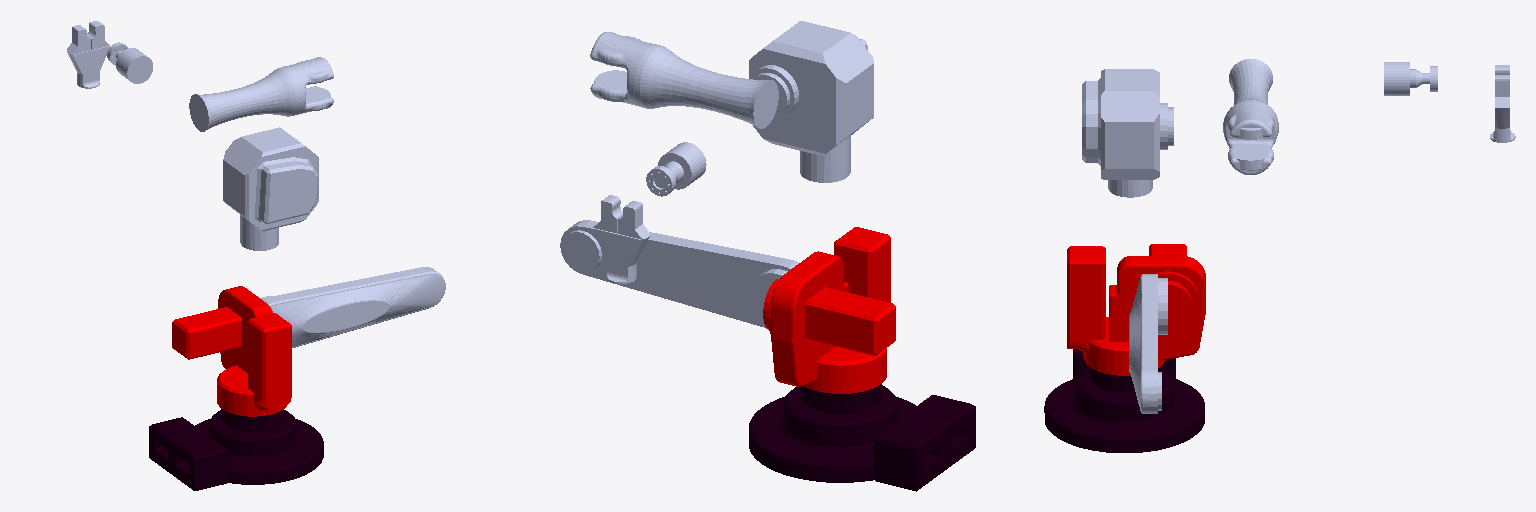
robot.urdf — robot_alex_urdf:
<?xml version="1.0" encoding="utf-8"?>
<!-- This URDF was automatically created by SolidWorks to URDF Exporter! Originally created by [author] ([email redacted]) 
     Commit Version: 1.6.0-4-g7f85cfe  Build Version: 1.6.7995.38578
     For more information, please see http://wiki.ros.org/sw_urdf_exporter -->
<robot
  name="robot_alex_urdf">
  <link
    name="base_link_alex">
    <inertial>
      <origin
        xyz="-0.0593086948871401 -2.87595368940353E-12 0.0776653157730273"
        rpy="0 0 0" />
      <mass
        value="33.891578448587" />
      <inertia
        ixx="0.562042604088221"
        ixy="-9.14376513234781E-12"
        ixz="0.00403961419511076"
        iyy="0.970694427805804"
        iyz="-7.30601703212629E-12"
        izz="1.29713482615658" />
    </inertial>
    <visual>
      <origin
        xyz="0 0 0"
        rpy="0 0 0" />
      <geometry>
        <mesh
          filename="package://robot_alex_urdf/meshes/base_link_alex.STL" />
      </geometry>
      <material
        name="">
        <color
          rgba="0.152941176470588 0 0.117647058823529 1" />
      </material>
    </visual>
    <collision>
      <origin
        xyz="0 0 0"
        rpy="0 0 0" />
      <geometry>
        <mesh
          filename="package://robot_alex_urdf/meshes/base_link_alex.STL" />
      </geometry>
    </collision>
  </link>
  <link
    name="arm_link_1_alex">
    <inertial>
      <origin
        xyz="0.0416589398280025 -3.68988089329482E-05 0.19712083516126"
        rpy="0 0 0" />
      <mass
        value="26.7048266497369" />
      <inertia
        ixx="0.495499615132855"
        ixy="-0.0102760504758245"
        ixz="-0.0600935399650256"
        iyy="0.766768677077223"
        iyz="-0.0115358881770517"
        izz="0.604967931690783" />
    </inertial>
    <visual>
      <origin
        xyz="0 0 0"
        rpy="0 0 0" />
      <geometry>
        <mesh
          filename="package://robot_alex_urdf/meshes/arm_link_1_alex.STL" />
      </geometry>
      <material
        name="">
        <color
          rgba="1 0 0 1" />
      </material>
    </visual>
    <collision>
      <origin
        xyz="0 0 0"
        rpy="0 0 0" />
      <geometry>
        <mesh
          filename="package://robot_alex_urdf/meshes/arm_link_1_alex.STL" />
      </geometry>
    </collision>
  </link>
  <joint
    name="arm_joint_1_alex"
    type="continuous">
    <origin
      xyz="0 0 0.234"
      rpy="0 0 1.5707963267949" />
    <parent
      link="base_link_alex" />
    <child
      link="arm_link_1_alex" />
    <axis
      xyz="0 0 1" />
    <limit
      lower="-3.1416"
      upper="3.1416"
      effort="0"
      velocity="0" />
  </joint>
  <link
    name="arm_link_2_alex">
    <inertial>
      <origin
        xyz="-0.290203503422468 0.000258724363916885 0.0707589768311214"
        rpy="0 0 0" />
      <mass
        value="14.3270690802686" />
      <inertia
        ixx="0.0504590836189902"
        ixy="4.64678003355E-05"
        ixz="0.0137202067906074"
        iyy="0.848873613210201"
        iyz="-0.000175299197197563"
        izz="0.87480377814942" />
    </inertial>
    <visual>
      <origin
        xyz="0 0 0"
        rpy="0 0 0" />
      <geometry>
        <mesh
          filename="package://robot_alex_urdf/meshes/arm_link_2_alex.STL" />
      </geometry>
      <material
        name="">
        <color
          rgba="0.792156862745098 0.819607843137255 0.933333333333333 1" />
      </material>
    </visual>
    <collision>
      <origin
        xyz="0 0 0"
        rpy="0 0 0" />
      <geometry>
        <mesh
          filename="package://robot_alex_urdf/meshes/arm_link_2_alex.STL" />
      </geometry>
    </collision>
  </link>
  <joint
    name="arm_joint_2_alex"
    type="continuous">
    <origin
      xyz="0.15 -0.1375 0.265"
      rpy="1.5708 1.5708 0" />
    <parent
      link="arm_link_1_alex" />
    <child
      link="arm_link_2_alex" />
    <axis
      xyz="0 0 -1" />
    <limit
      lower="-3.1416"
      upper="3.1416"
      effort="0"
      velocity="0" />
  </joint>
  <link
    name="arm_link_3_alex">
    <inertial>
      <origin
        xyz="-0.0664637155357433 -0.0362614171159604 0.163132908024542"
        rpy="0 0 0" />
      <mass
        value="27.1450417424437" />
      <inertia
        ixx="0.420912669748457"
        ixy="-0.0211648441841246"
        ixz="0.00675660536457733"
        iyy="0.344868303293537"
        iyz="-0.00338242702861562"
        izz="0.473964503565445" />
    </inertial>
    <visual>
      <origin
        xyz="0 0 0"
        rpy="0 0 0" />
      <geometry>
        <mesh
          filename="package://robot_alex_urdf/meshes/arm_link_3_alex.STL" />
      </geometry>
      <material
        name="">
        <color
          rgba="0.792156862745098 0.819607843137255 0.933333333333333 1" />
      </material>
    </visual>
    <collision>
      <origin
        xyz="0 0 0"
        rpy="0 0 0" />
      <geometry>
        <mesh
          filename="package://robot_alex_urdf/meshes/arm_link_3_alex.STL" />
      </geometry>
    </collision>
  </link>
  <joint
    name="arm_joint_3_alex"
    type="continuous">
    <origin
      xyz="-0.7 0 0.02"
      rpy="3.1416 0 0" />
    <parent
      link="arm_link_2_alex" />
    <child
      link="arm_link_3_alex" />
    <axis
      xyz="0 0 1" />
    <limit
      lower="-3.1416"
      upper="3.1416"
      effort="0"
      velocity="0" />
  </joint>
  <link
    name="arm_link_4_alex">
    <inertial>
      <origin
        xyz="9.61729624561133E-07 -4.81067613522512E-07 0.316053837217416"
        rpy="0 0 0" />
      <mass
        value="9.30858027519613" />
      <inertia
        ixx="0.257239180922131"
        ixy="0.000166705964847101"
        ixz="-7.65826560298902E-07"
        iyy="0.264212206266023"
        iyz="-3.49084067182479E-07"
        izz="0.0348463133234511" />
    </inertial>
    <visual>
      <origin
        xyz="0 0 0"
        rpy="0 0 0" />
      <geometry>
        <mesh
          filename="package://robot_alex_urdf/meshes/arm_link_4_alex.STL" />
      </geometry>
      <material
        name="">
        <color
          rgba="0.792156862745098 0.819607843137255 0.933333333333333 1" />
      </material>
    </visual>
    <collision>
      <origin
        xyz="0 0 0"
        rpy="0 0 0" />
      <geometry>
        <mesh
          filename="package://robot_alex_urdf/meshes/arm_link_4_alex.STL" />
      </geometry>
    </collision>
  </link>
  <joint
    name="arm_joint_4_alex"
    type="continuous">
    <origin
      xyz="-0.115 -0.29 0.15"
      rpy="1.5708 1.5708 0" />
    <parent
      link="arm_link_3_alex" />
    <child
      link="arm_link_4_alex" />
    <axis
      xyz="0 0 1" />
    <limit
      lower="-3.1416"
      upper="3.1416"
      effort="0"
      velocity="0" />
  </joint>
  <link
    name="arm_link_5_alex">
    <inertial>
      <origin
        xyz="-7.93515475550066E-10 -0.00224018993807729 4.63650872903343E-10"
        rpy="0 0 0" />
      <mass
        value="0.961734748124672" />
      <inertia
        ixx="0.00143991315628678"
        ixy="8.85889010861654E-10"
        ixz="-9.91727417582073E-10"
        iyy="0.00154678090917305"
        iyz="-1.41969827872465E-11"
        izz="0.00165625576362529" />
    </inertial>
    <visual>
      <origin
        xyz="0 0 0"
        rpy="0 0 0" />
      <geometry>
        <mesh
          filename="package://robot_alex_urdf/meshes/arm_link_5_alex.STL" />
      </geometry>
      <material
        name="">
        <color
          rgba="0.792156862745098 0.819607843137255 0.933333333333333 1" />
      </material>
    </visual>
    <collision>
      <origin
        xyz="0 0 0"
        rpy="0 0 0" />
      <geometry>
        <mesh
          filename="package://robot_alex_urdf/meshes/arm_link_5_alex.STL" />
      </geometry>
    </collision>
  </link>
  <joint
    name="arm_joint_5_alex"
    type="continuous">
    <origin
      xyz="0 0 0.51"
      rpy="1.5708 0 1.5708" />
    <parent
      link="arm_link_4_alex" />
    <child
      link="arm_link_5_alex" />
    <axis
      xyz="0 0 -1" />
    <limit
      lower="-3.1416"
      upper="3.1416"
      effort="0"
      velocity="0" />
  </joint>
  <link
    name="arm_link_6_alex">
    <inertial>
      <origin
        xyz="2.47238265416172E-08 2.0518350976606E-09 0.0527259633442779"
        rpy="0 0 0" />
      <mass
        value="0.288779624800079" />
      <inertia
        ixx="0.000386925186804296"
        ixy="-2.51402341666326E-12"
        ixz="-3.11942189521198E-13"
        iyy="0.000386925215104184"
        iyz="-2.74314870515978E-14"
        izz="0.000212753902483571" />
    </inertial>
    <visual>
      <origin
        xyz="0 0 0"
        rpy="0 0 0" />
      <geometry>
        <mesh
          filename="package://robot_alex_urdf/meshes/arm_link_6_alex.STL" />
      </geometry>
      <material
        name="">
        <color
          rgba="0.792156862745098 0.819607843137255 0.933333333333333 1" />
      </material>
    </visual>
    <collision>
      <origin
        xyz="0 0 0"
        rpy="0 0 0" />
      <geometry>
        <mesh
          filename="package://robot_alex_urdf/meshes/arm_link_6_alex.STL" />
      </geometry>
    </collision>
  </link>
  <joint
    name="arm_joint_6_alex"
    type="continuous">
    <origin
      xyz="0 0.045 0"
      rpy="1.5708 -0.041313 3.1416" />
    <parent
      link="arm_link_5_alex" />
    <child
      link="arm_link_6_alex" />
    <axis
      xyz="0 0 1" />
    <limit
      lower="-3.1416"
      upper="3.1416"
      effort="0"
      velocity="0" />
  </joint>
  <link
    name="eef_link_alex">
    <inertial>
      <origin
        xyz="-2.38370087557449E-13 -0.0980561329200587 -2.88657986402541E-15"
        rpy="0 0 0" />
      <mass
        value="1.45406661810263" />
      <inertia
        ixx="0.0068133488557799"
        ixy="7.63401048149524E-14"
        ixz="-4.74320102714155E-09"
        iyy="0.00243700011056298"
        iyz="4.61232655506351E-16"
        izz="0.00863071846569576" />
    </inertial>
    <visual>
      <origin
        xyz="0 0 0"
        rpy="0 0 0" />
      <geometry>
        <mesh
          filename="package://robot_alex_urdf/meshes/eef_link_alex.STL" />
      </geometry>
      <material
        name="">
        <color
          rgba="0.792156862745098 0.819607843137255 0.933333333333333 1" />
      </material>
    </visual>
    <collision>
      <origin
        xyz="0 0 0"
        rpy="0 0 0" />
      <geometry>
        <mesh
          filename="package://robot_alex_urdf/meshes/eef_link_alex.STL" />
      </geometry>
    </collision>
  </link>
  <joint
    name="eef_joint_fixed_alex"
    type="fixed">
    <origin
      xyz="0 0 0.32173"
      rpy="1.5708 0 1.5295" />
    <parent
      link="arm_link_6_alex" />
    <child
      link="eef_link_alex" />
    <axis
      xyz="0 0 0" />
  </joint>
</robot>

--- What the picture shows (computed from the rendered views, not written in the file) ---
3 views of the same robot in one strip: view 1: azimuth 30°, elevation 25°; view 2: azimuth 150°, elevation 25°; view 3: azimuth 270°, elevation 25° (orthographic).
Model robot_alex_urdf with 8 links and 7 joints (6 continuous, 1 fixed), rooted at base_link_alex, posed every joint at zero.
Links seen in each view (by area): view 1: base_link_alex, arm_link_1_alex, arm_link_3_alex, arm_link_2_alex, arm_link_4_alex, eef_link_alex, arm_link_5_alex; view 2: base_link_alex, arm_link_1_alex, arm_link_3_alex, arm_link_2_alex, arm_link_4_alex, eef_link_alex, arm_link_5_alex, arm_link_6_alex; view 3: arm_link_1_alex, base_link_alex, arm_link_3_alex, arm_link_4_alex, arm_link_2_alex, eef_link_alex, arm_link_5_alex.
Boxes of the visible links, <box> form: base_link_alex: <box>149,409,323,490</box>; arm_link_1_alex: <box>172,286,291,416</box>; arm_link_3_alex: <box>223,127,318,250</box>; arm_link_2_alex: <box>260,267,445,347</box>; arm_link_4_alex: <box>189,57,333,131</box>; eef_link_alex: <box>67,21,109,88</box>; arm_link_5_alex: <box>116,48,152,83</box>; base_link_alex: <box>749,384,975,491</box>; arm_link_1_alex: <box>763,227,895,393</box>; arm_link_3_alex: <box>749,21,873,182</box>; arm_link_2_alex: <box>560,220,798,329</box>; arm_link_4_alex: <box>590,32,778,128</box>; eef_link_alex: <box>593,195,649,283</box>; arm_link_5_alex: <box>658,142,706,189</box>; arm_link_6_alex: <box>646,161,683,196</box>; arm_link_1_alex: <box>1067,244,1205,375</box>; base_link_alex: <box>1044,349,1204,452</box>; arm_link_3_alex: <box>1082,69,1173,197</box>; arm_link_4_alex: <box>1223,59,1278,174</box>; arm_link_2_alex: <box>1129,274,1167,413</box>; eef_link_alex: <box>1490,65,1515,142</box>; arm_link_5_alex: <box>1384,62,1409,95</box>.
Bounding box of the posed robot: 1.29 × 1.64 × 1.42 m (x, y, z).
Meshes: 8 distinct files referenced, 8 mesh visuals loaded (8 binary STL).
